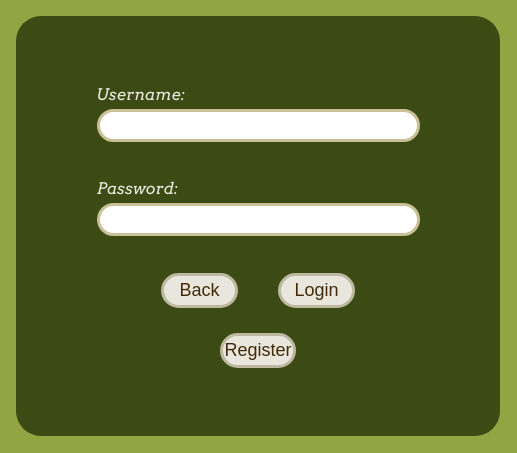
Test: Login Page User Flow › should display a message if not all fields are filled in
In the field: point(259, 126) [97,109,420,142], type "bpeterson"
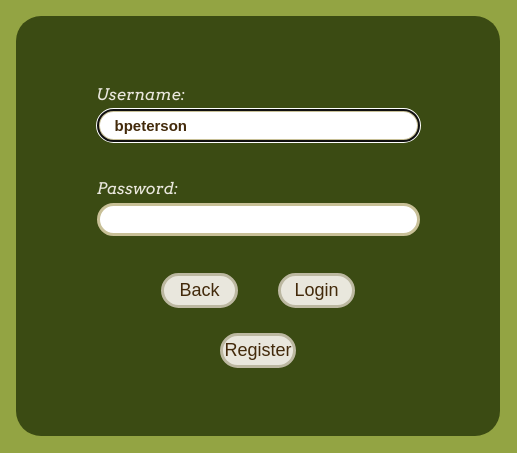
Click the submit button: point(317, 291) [278,273,355,308]
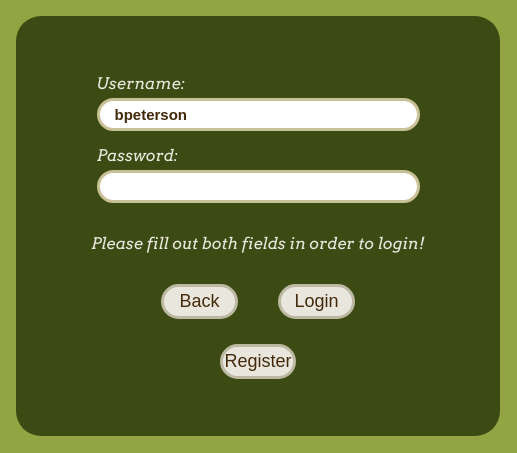
Expected: the text "Please fill out both fields in order to login!" is shown, [91,234,425,252]
